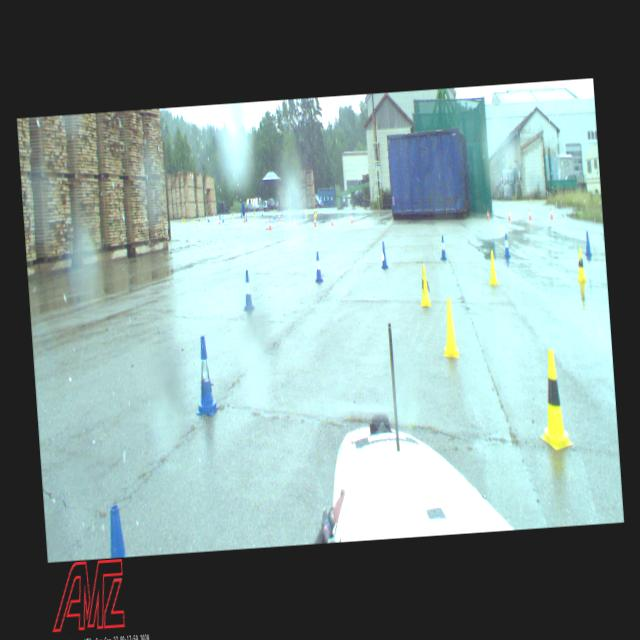blue_cone: (194, 334, 216, 412), (106, 504, 125, 556), (242, 270, 254, 310), (314, 251, 323, 282), (380, 241, 388, 268), (584, 230, 592, 257), (438, 235, 446, 260), (502, 232, 510, 257), (221, 214, 224, 222), (302, 210, 304, 218), (280, 208, 282, 216), (245, 214, 247, 222), (273, 212, 274, 218), (240, 212, 241, 218), (208, 216, 208, 222), (262, 211, 262, 216), (220, 212, 220, 219)
orange_cone: (528, 208, 531, 220), (486, 209, 489, 220), (268, 219, 271, 230), (293, 217, 296, 228), (313, 216, 316, 226), (350, 214, 353, 223), (330, 217, 333, 226), (242, 214, 245, 223), (550, 207, 552, 218), (508, 209, 510, 220), (218, 216, 220, 224), (278, 212, 280, 220)
yellow_cone: (538, 348, 568, 446), (440, 298, 460, 358), (418, 264, 431, 306), (487, 250, 498, 286), (576, 248, 586, 282), (198, 216, 200, 224), (314, 208, 316, 216), (182, 217, 184, 224), (306, 208, 308, 215), (190, 216, 192, 222), (288, 208, 290, 214), (253, 210, 254, 217), (274, 208, 275, 215), (232, 212, 233, 218), (314, 209, 314, 216)
